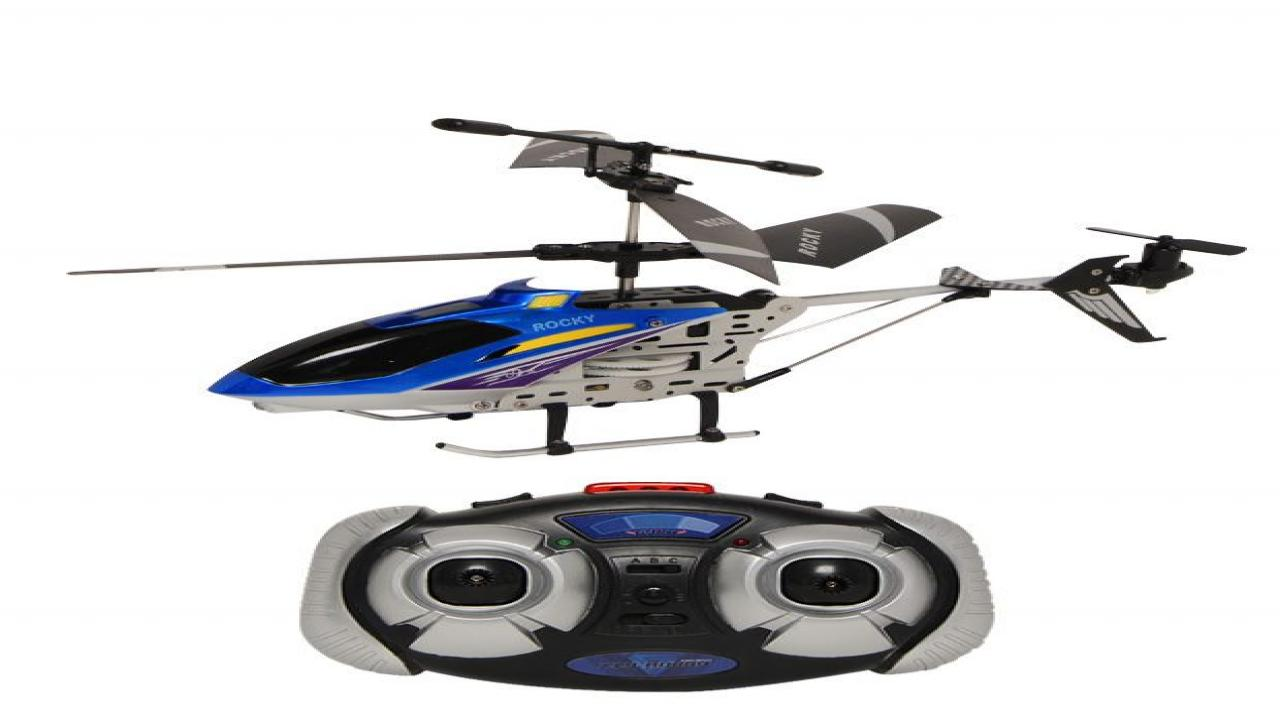Helicopter: (36, 106, 1273, 468)
